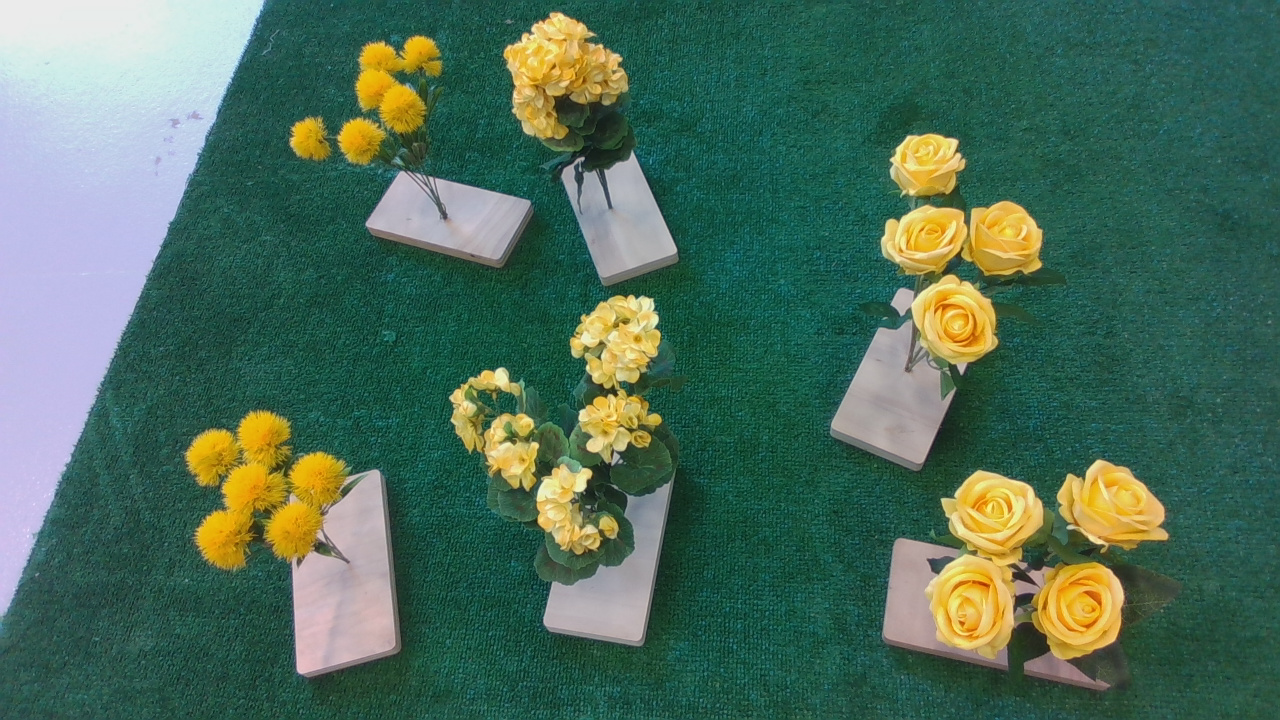dandelion: (173, 407, 372, 574), (287, 35, 463, 180)
geranium: (444, 295, 681, 587), (497, 10, 658, 186)
rose: (927, 464, 1197, 686), (864, 117, 1075, 392)
